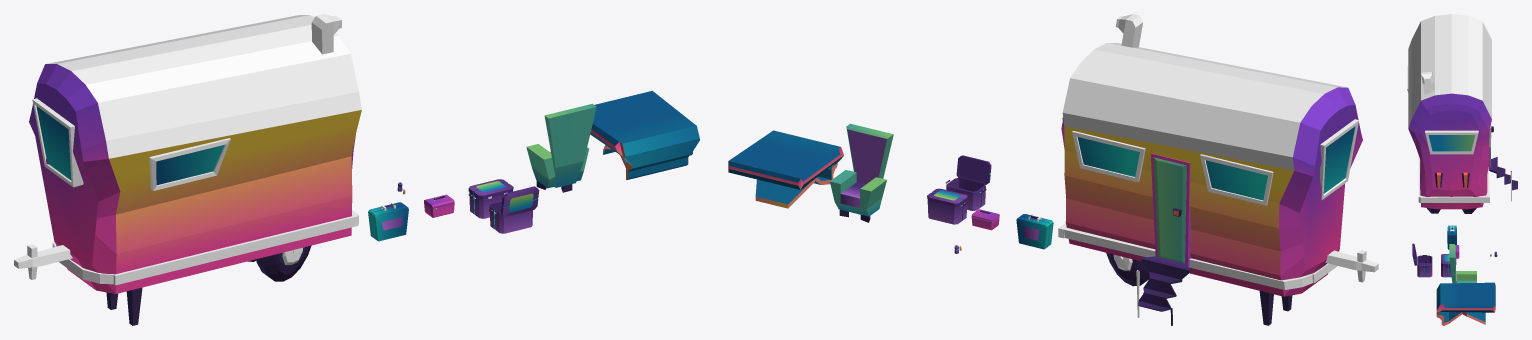
The model's file is CompleteObjectsExport.fbx.
3 renders of one model, left to right at view 1: azimuth 30°, elevation 25°; view 2: azimuth 150°, elevation 25°; view 3: azimuth 270°, elevation 25°, orthographic. The views are drawn at different scales.
Parts seen in each view (by area): view 1: CaravanBody, Table, Chair, StructureSupport, LWindow, FrontWindow, SuitCase_Type1, TowHitch, LTyre, Vent, CoolerLid.001, CoolerBox.001 (+3 smaller); view 2: CaravanBody, Table, Door, Chair, StructureSupport, RRWindow, RFWindow, CaravanSteps, FrontWindow, SuitCase_Type1, TowHitch, CoolerLid.001 (+6 smaller); view 3: CaravanBody, Table, RearWindow, StructureSupport, Chair, CaravanSteps, CoolerBox.001, Vent, SuitCase_Type1, CoolerBox, CoolerLid, RLight (+1 smaller).
Boxes of the visible parts, x1=… form: CaravanBody: x1=29, y1=15, x2=361, y2=293; Table: x1=590, y1=90, x2=699, y2=179; Chair: x1=526, y1=103, x2=596, y2=188; StructureSupport: x1=52, y1=210, x2=358, y2=285; LWindow: x1=149, y1=138, x2=230, y2=190; FrontWindow: x1=32, y1=98, x2=83, y2=187; SuitCase_Type1: x1=368, y1=202, x2=408, y2=241; TowHitch: x1=14, y1=244, x2=72, y2=279; LTyre: x1=256, y1=245, x2=311, y2=281; Vent: x1=311, y1=14, x2=341, y2=54; CoolerLid.001: x1=501, y1=186, x2=539, y2=216; CoolerBox.001: x1=489, y1=201, x2=532, y2=233; CaravanBody: x1=1061, y1=43, x2=1362, y2=296; Table: x1=728, y1=130, x2=843, y2=208; Door: x1=1150, y1=153, x2=1190, y2=266; Chair: x1=830, y1=123, x2=893, y2=216; StructureSupport: x1=1058, y1=223, x2=1339, y2=289; RRWindow: x1=1072, y1=131, x2=1145, y2=182; RFWindow: x1=1200, y1=154, x2=1273, y2=205; CaravanSteps: x1=1136, y1=256, x2=1189, y2=325; FrontWindow: x1=1320, y1=119, x2=1358, y2=200; SuitCase_Type1: x1=1016, y1=214, x2=1053, y2=249; TowHitch: x1=1325, y1=250, x2=1378, y2=282; CoolerLid.001: x1=956, y1=155, x2=991, y2=184; CaravanBody: x1=1408, y1=14, x2=1491, y2=209; Table: x1=1436, y1=282, x2=1495, y2=325; RearWindow: x1=1425, y1=130, x2=1478, y2=154; StructureSupport: x1=1418, y1=156, x2=1489, y2=202; Chair: x1=1449, y1=244, x2=1476, y2=283; CaravanSteps: x1=1490, y1=157, x2=1517, y2=201; CoolerBox.001: x1=1417, y1=255, x2=1432, y2=277; Vent: x1=1421, y1=71, x2=1434, y2=94; SuitCase_Type1: x1=1447, y1=225, x2=1456, y2=249; CoolerBox: x1=1441, y1=265, x2=1451, y2=277; CoolerLid: x1=1441, y1=254, x2=1456, y2=265; RLight: x1=1461, y1=172, x2=1469, y2=188.
Size of the model in its own units: 413 by 1698 by 648.
